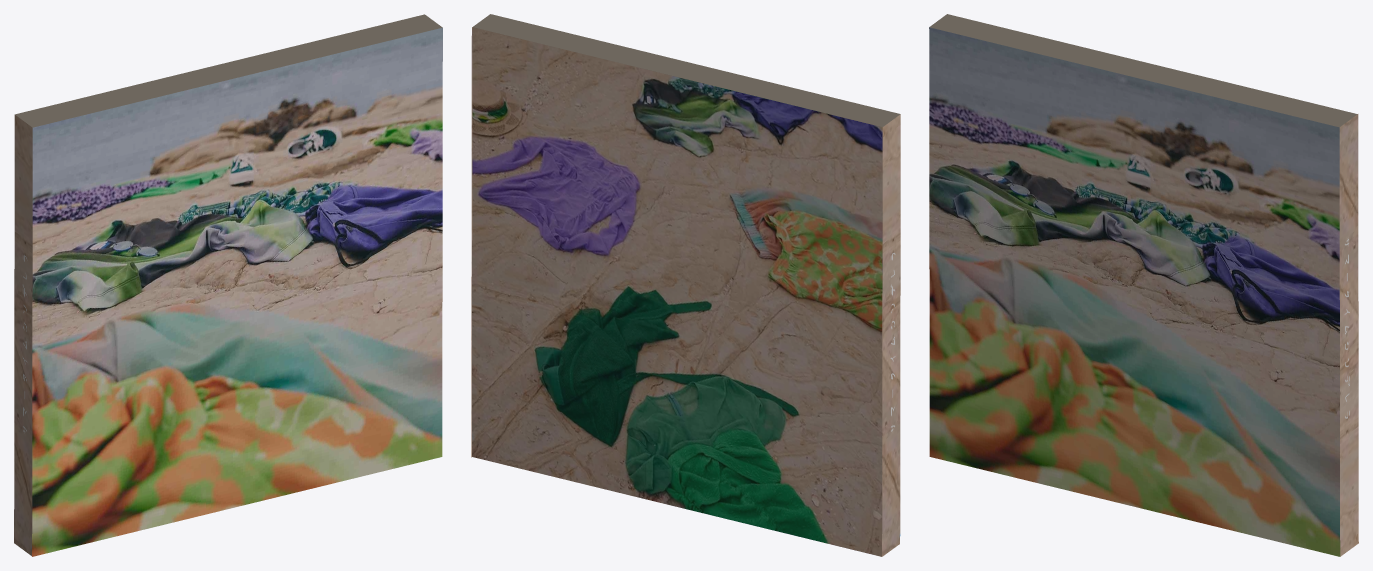
File: album_3.glb
The picture shows the model from 3 angles, left to right: view 1: azimuth 30°, elevation 25°; view 2: azimuth 150°, elevation 25°; view 3: azimuth 330°, elevation 25°; orthographic projection.
Visible parts, largest first — view 1: Plane.001; view 2: Plane.001; view 3: Plane.001.
Boxes of the visible parts, bbox=[...] form: Plane.001: bbox=[14, 14, 442, 556]; Plane.001: bbox=[471, 14, 900, 556]; Plane.001: bbox=[929, 14, 1358, 556].
Size of the model in its own units: 3.39 by 3.39 by 0.2752.
Materials: 5 (4 with a texture image).
